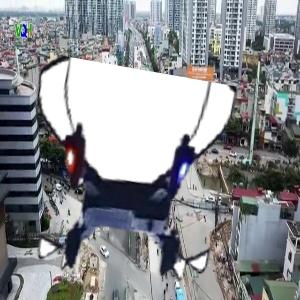drone: (20, 70, 238, 288)
